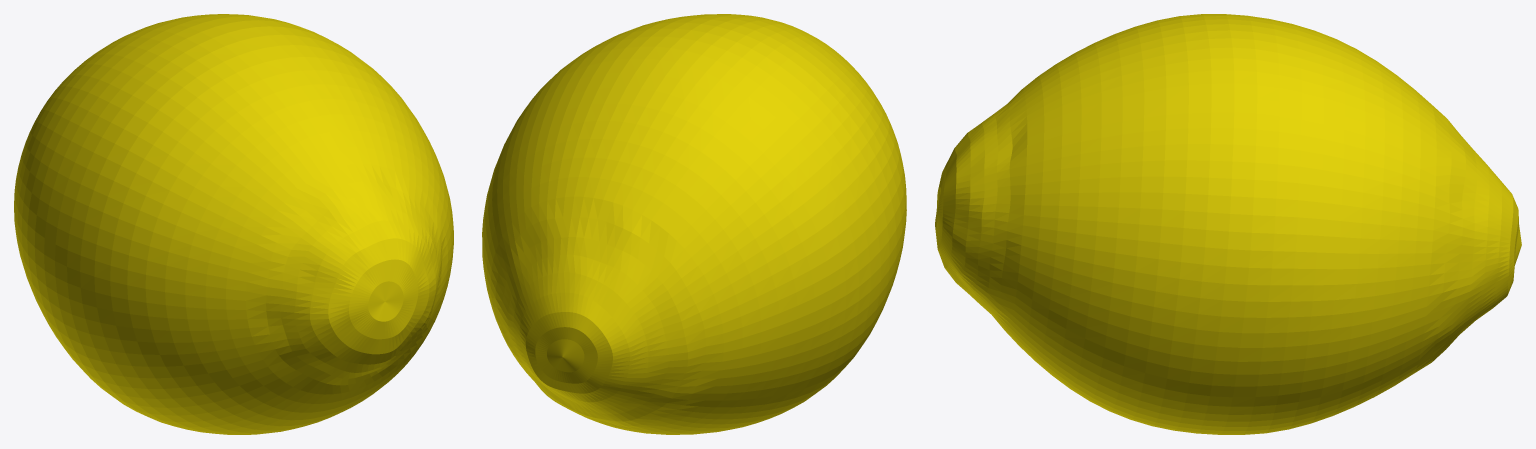
File: treasure.fbx
3 views of the same model, side by side, from view 1: azimuth 30°, elevation 25°; view 2: azimuth 150°, elevation 25°; view 3: azimuth 270°, elevation 25° (orthographic). The views are drawn at different scales.
Visible parts, largest first — view 1: Sphere01; view 2: Sphere01; view 3: Sphere01.
Part boxes in pixels (left/top/right/bottom): Sphere01: left=14, top=14, right=453, bottom=434; Sphere01: left=482, top=14, right=906, bottom=434; Sphere01: left=935, top=14, right=1521, bottom=434.
Bounding box in the file's own units: 18.04 × 18.2 × 25.12.
